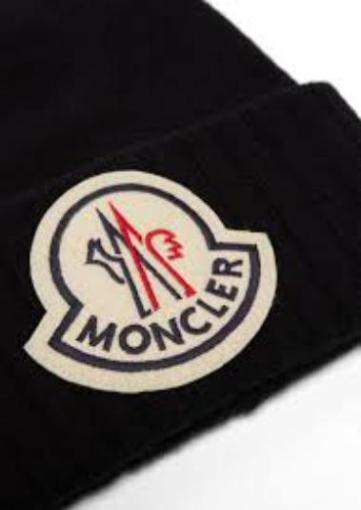MONCLER: (83, 195, 201, 323)
